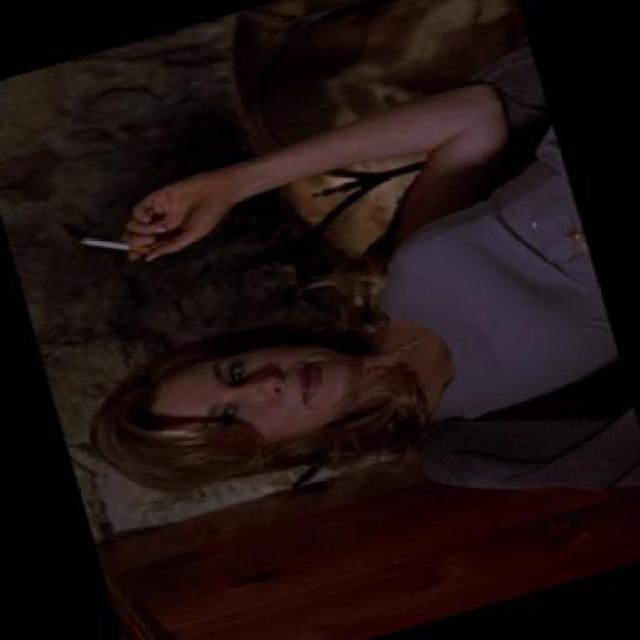cigarette: (77, 216, 154, 270)
